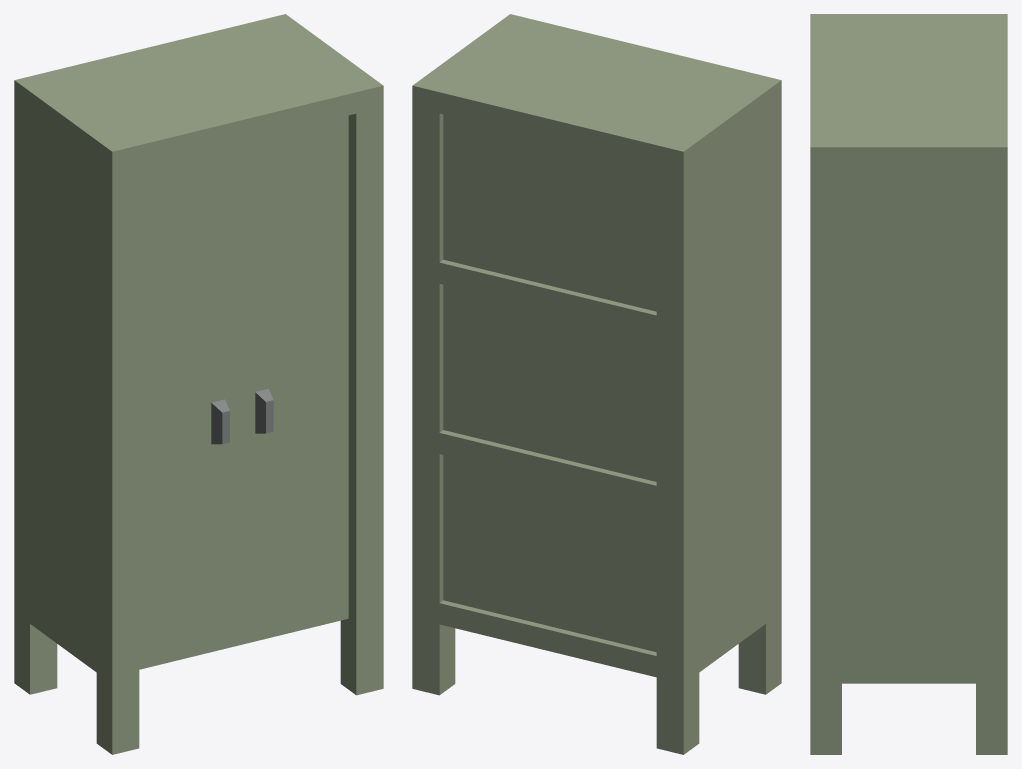
Rendered from cabinet_tall.glb.
3 renders of one model, left to right at view 1: azimuth 30°, elevation 25°; view 2: azimuth 150°, elevation 25°; view 3: azimuth 270°, elevation 25°, orthographic.
Parts seen in each view (by area): view 1: prop; view 2: prop; view 3: prop.
Boxes of the visible parts, x1,y1,x2,y2 form: prop: [14, 14, 383, 754]; prop: [412, 14, 781, 754]; prop: [810, 14, 1007, 754].
Size of the model in its own units: 0.8941 by 1.9 by 0.5588.
